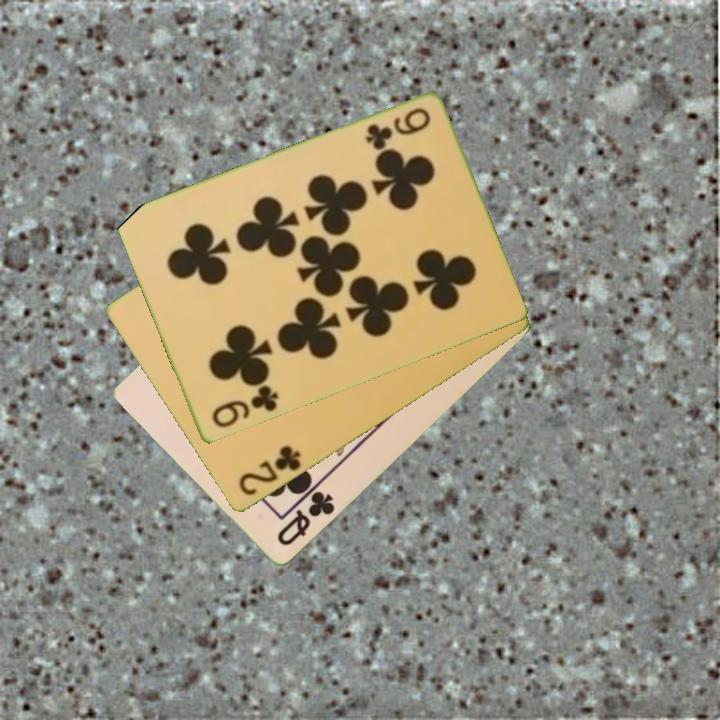2c: (235, 442, 304, 499)
9c: (208, 381, 281, 432), (361, 104, 433, 153)
Qc: (273, 488, 338, 550)
